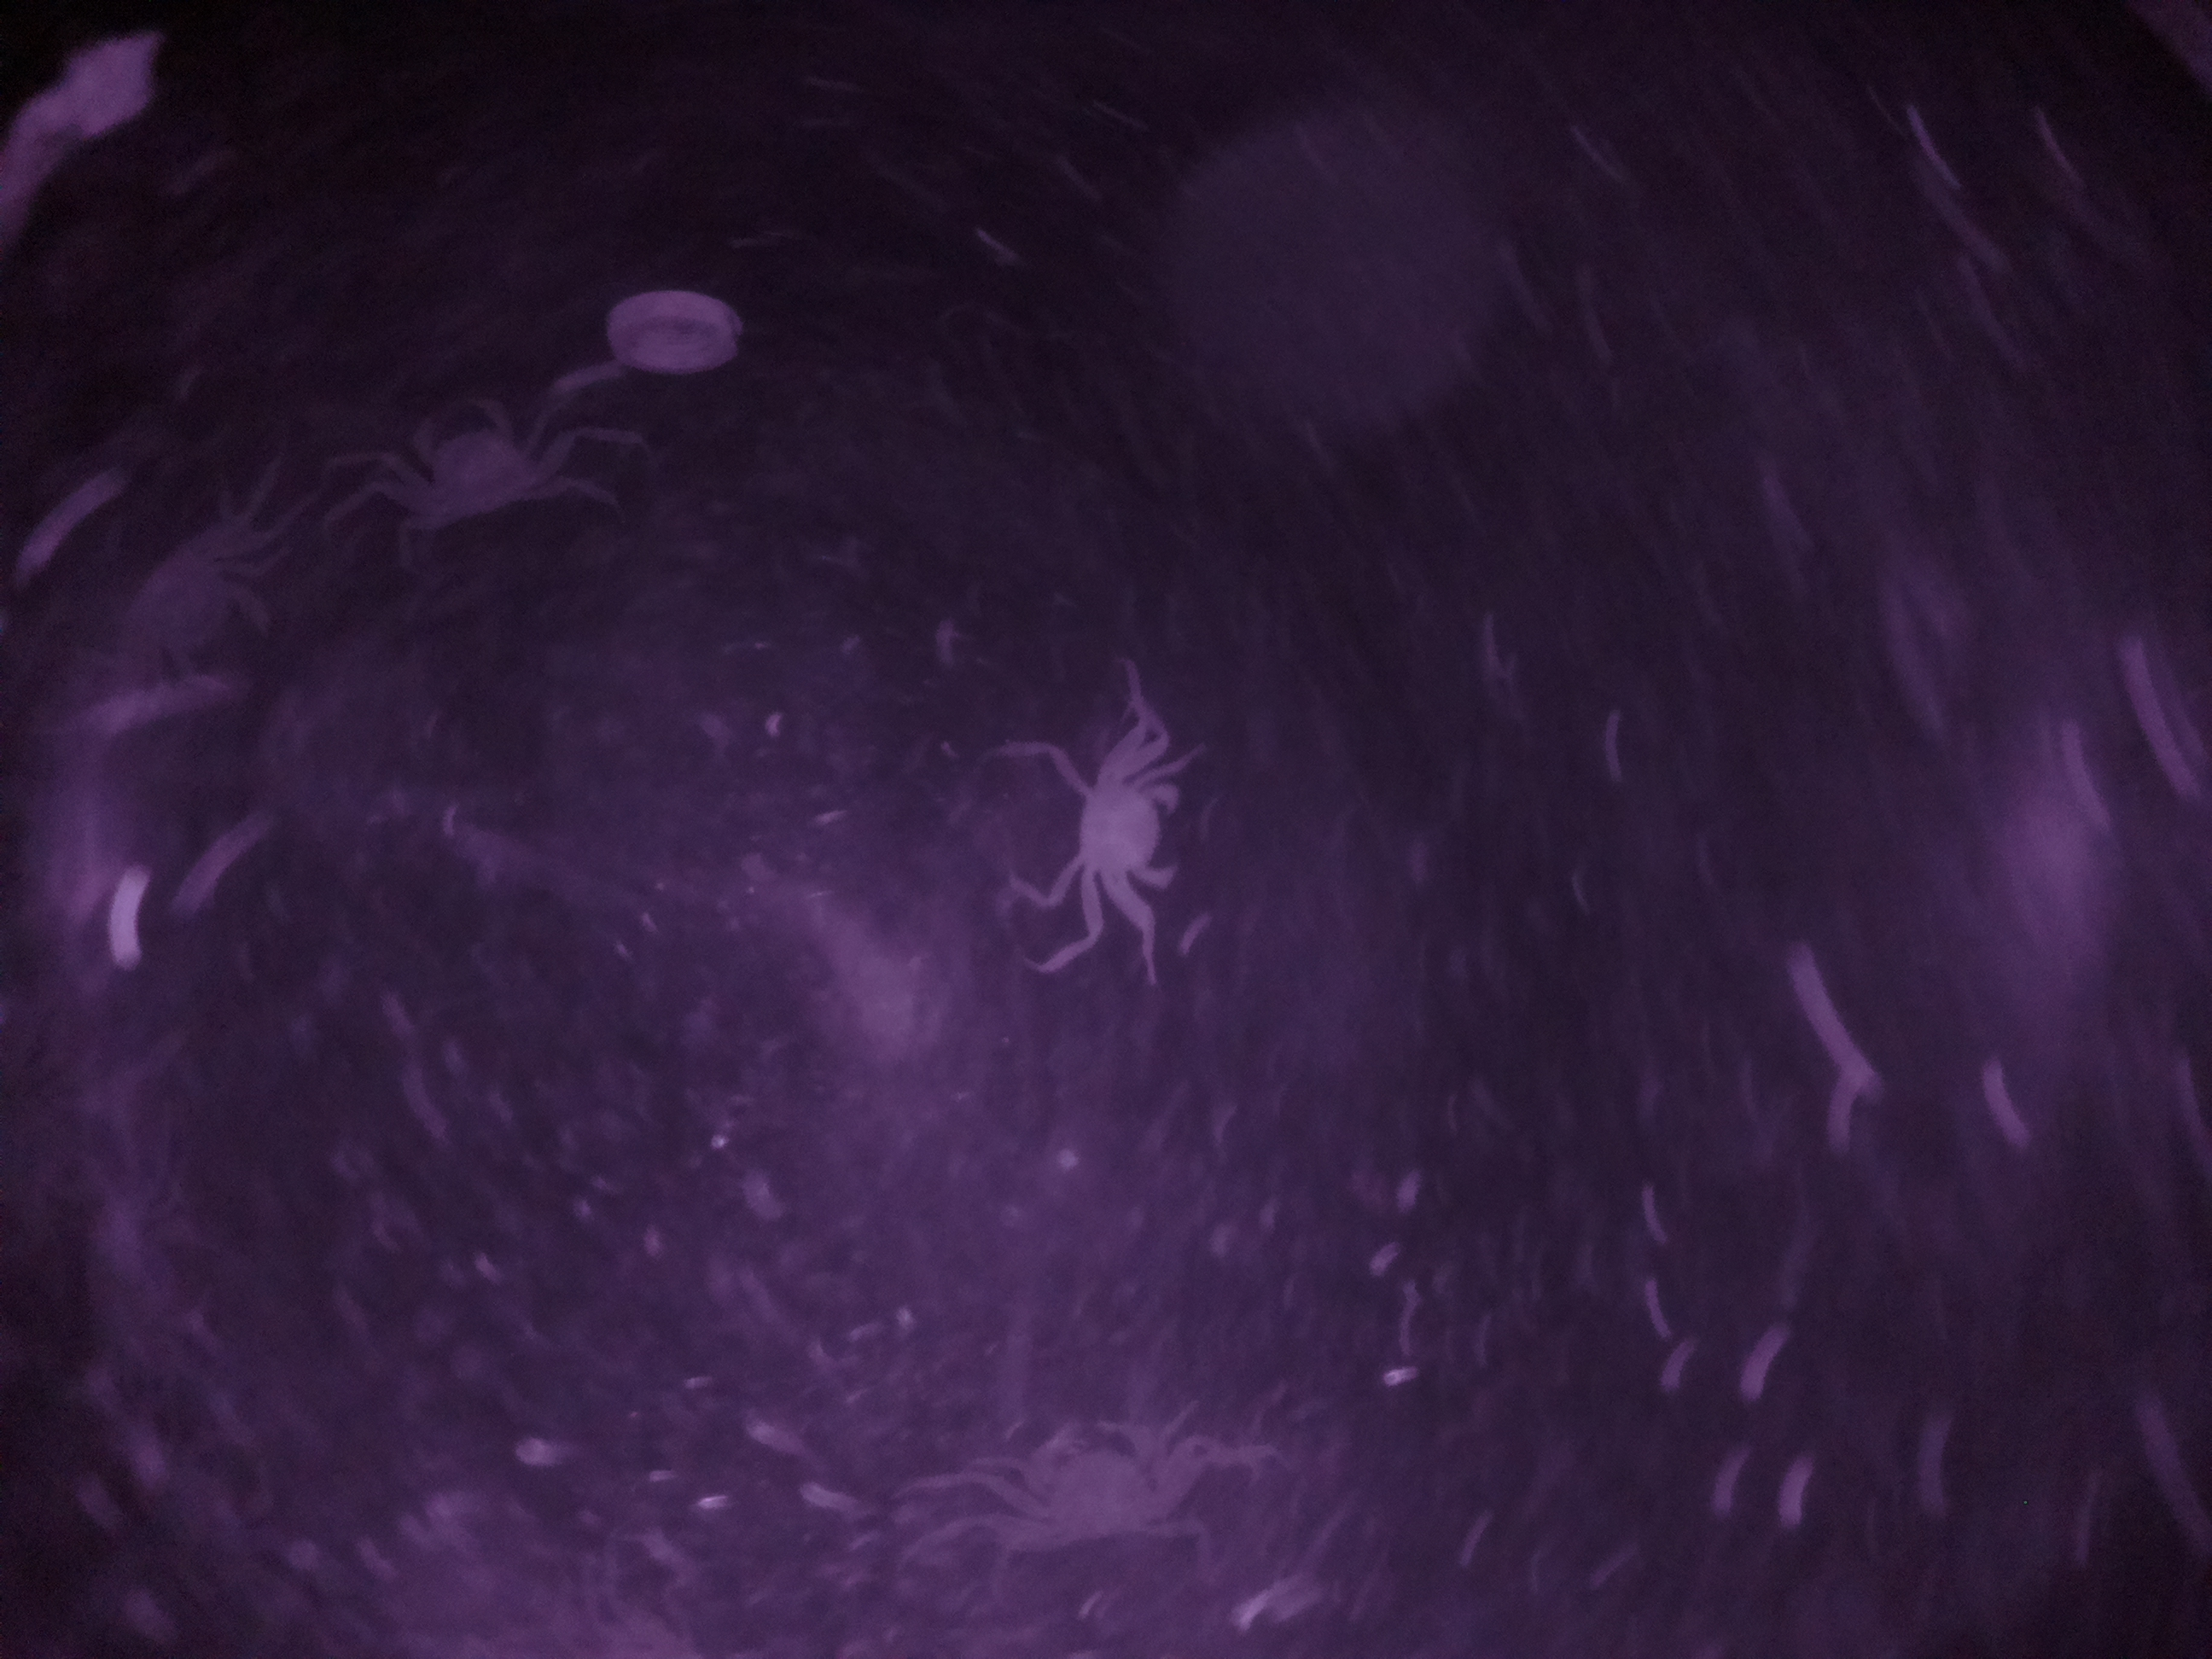Crab: (371, 364, 611, 558), (967, 1387, 1202, 1584), (1038, 714, 1204, 938)
